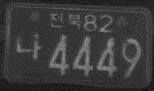2: (99, 13, 113, 34)
4: (95, 37, 118, 79), (71, 35, 93, 77), (48, 34, 69, 77)
8: (83, 13, 96, 32)
9: (120, 37, 141, 78)
나: (15, 30, 41, 61)
전북_O: (49, 12, 82, 31)
